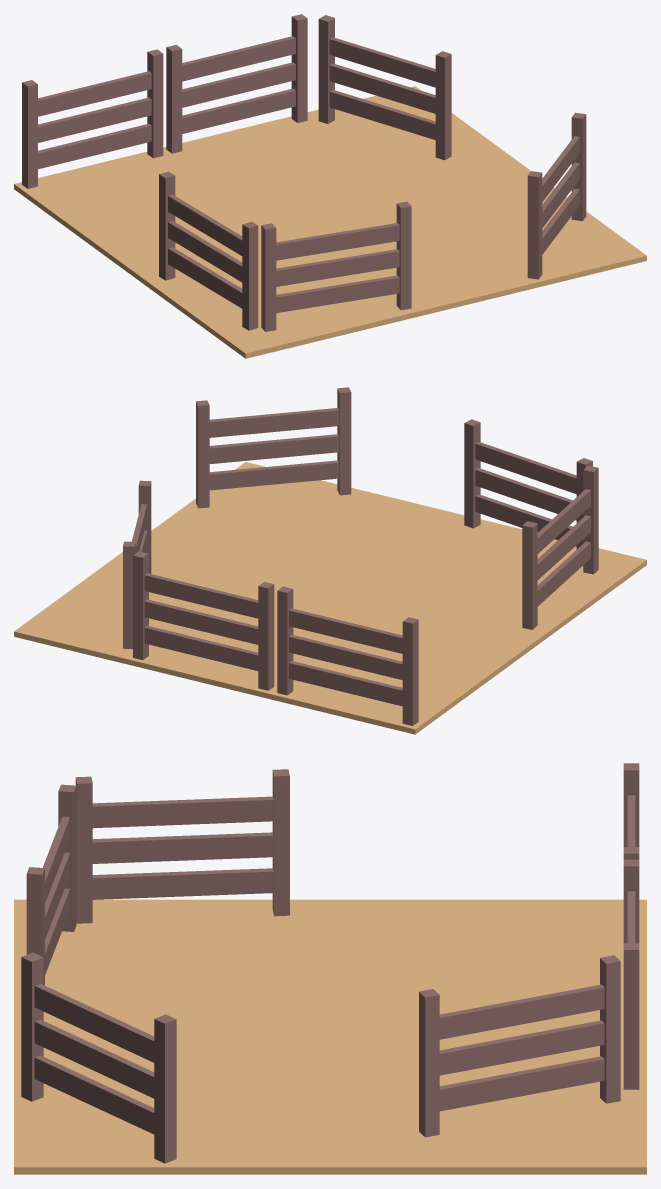
Rendered from Storage Yard.fbx.
3 renders of one model, top to bottom at view 1: azimuth 30°, elevation 25°; view 2: azimuth 150°, elevation 25°; view 3: azimuth 270°, elevation 25°, orthographic. The views are drawn at different scales.
Parts seen in each view (by area): view 1: Floor, Fence B, Fence F, Fence A, Fence D, Fence G, Fence C; view 2: Floor, Fence C, Fence A, Fence F, Fence B, Fence G, Fence D; view 3: Floor, Fence G, Fence D, Fence C, Fence B, Fence F, Fence A.
Boxes of the visible parts, x1=… form: Floor: x1=14, y1=86, x2=646, y2=358; Fence B: x1=261, y1=201, x2=411, y2=331; Fence F: x1=166, y1=14, x2=307, y2=153; Fence A: x1=22, y1=49, x2=163, y2=188; Fence D: x1=318, y1=15, x2=451, y2=160; Fence G: x1=159, y1=171, x2=258, y2=330; Fence C: x1=527, y1=112, x2=586, y2=279; Floor: x1=14, y1=462, x2=646, y2=734; Fence C: x1=196, y1=387, x2=351, y2=508; Fence A: x1=277, y1=586, x2=418, y2=725; Fence F: x1=133, y1=551, x2=274, y2=690; Fence B: x1=464, y1=419, x2=592, y2=566; Fence G: x1=522, y1=465, x2=598, y2=629; Fence D: x1=123, y1=480, x2=151, y2=649; Floor: x1=14, y1=899, x2=646, y2=1174; Fence G: x1=75, y1=769, x2=289, y2=923; Fence D: x1=419, y1=955, x2=620, y2=1137; Fence C: x1=21, y1=952, x2=176, y2=1163; Fence B: x1=26, y1=784, x2=76, y2=985; Fence F: x1=623, y1=859, x2=639, y2=1089; Fence A: x1=623, y1=763, x2=639, y2=859.
Bounding box in the file's own units: 800 × 205 × 800.
